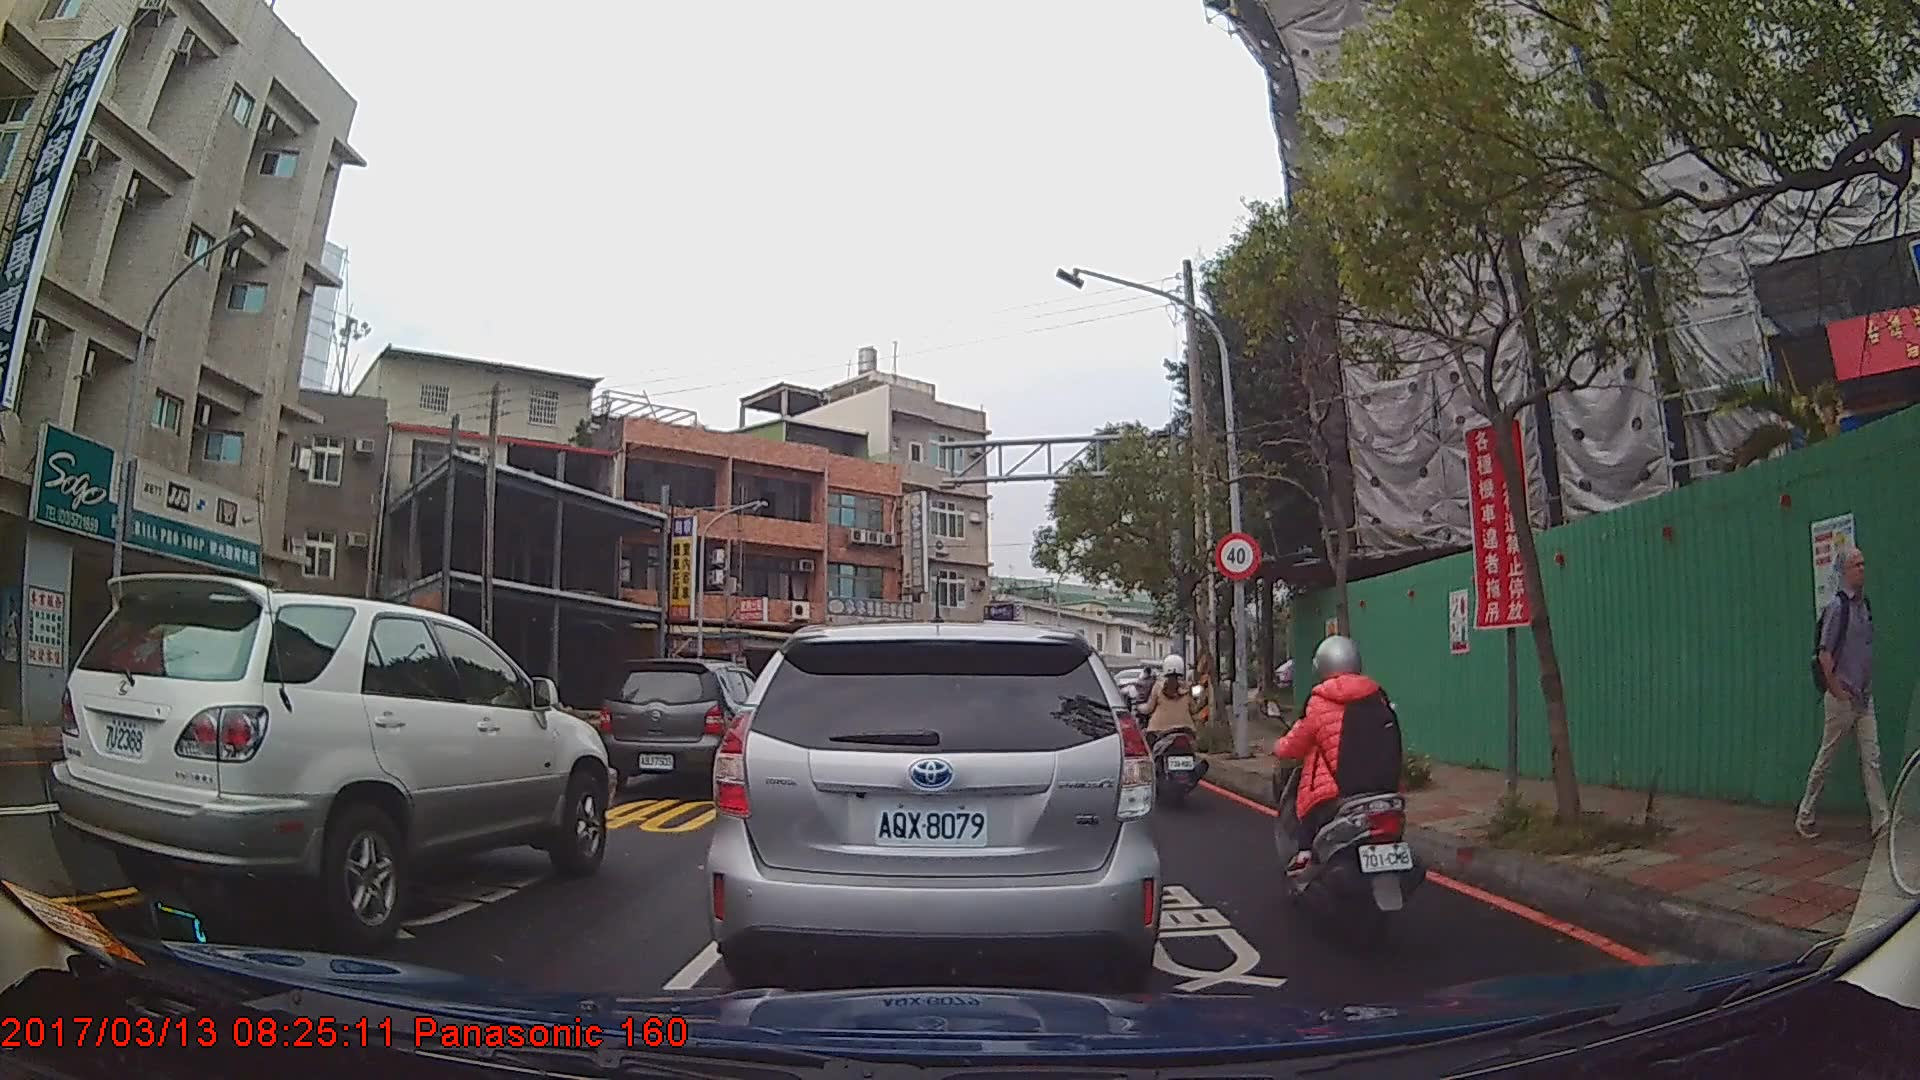pedestrian: (1798, 540, 1888, 841)
rider: (1271, 635, 1431, 951), (1144, 654, 1205, 802), (1134, 664, 1159, 727)
vehicle: (50, 571, 613, 946), (705, 619, 1164, 1000), (599, 657, 784, 791)
